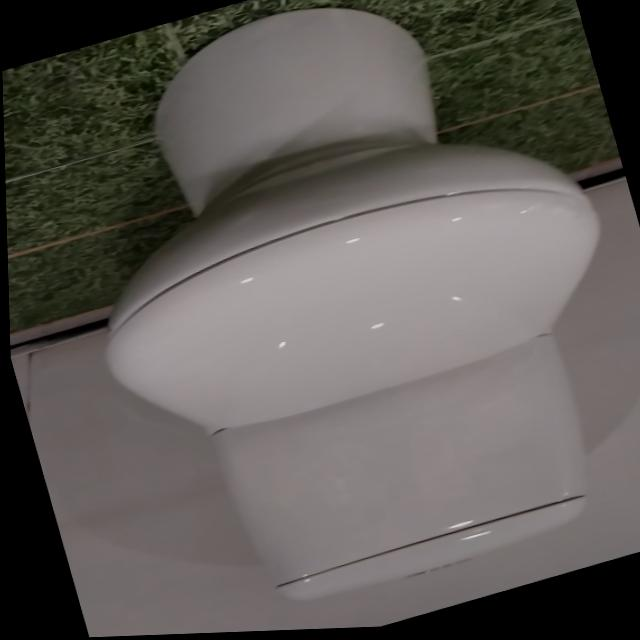toilet: (25, 0, 640, 639)
